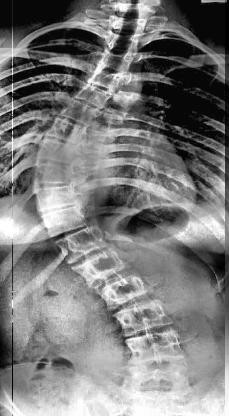Vertebrae: (93, 270, 156, 314), (113, 297, 177, 339), (71, 247, 133, 289), (124, 330, 188, 368), (53, 226, 109, 266), (40, 203, 88, 239), (46, 116, 86, 146), (59, 98, 100, 127), (34, 184, 76, 212), (33, 160, 77, 186), (75, 82, 114, 110), (36, 139, 78, 165), (102, 30, 142, 54), (88, 66, 124, 92), (97, 48, 132, 74)
